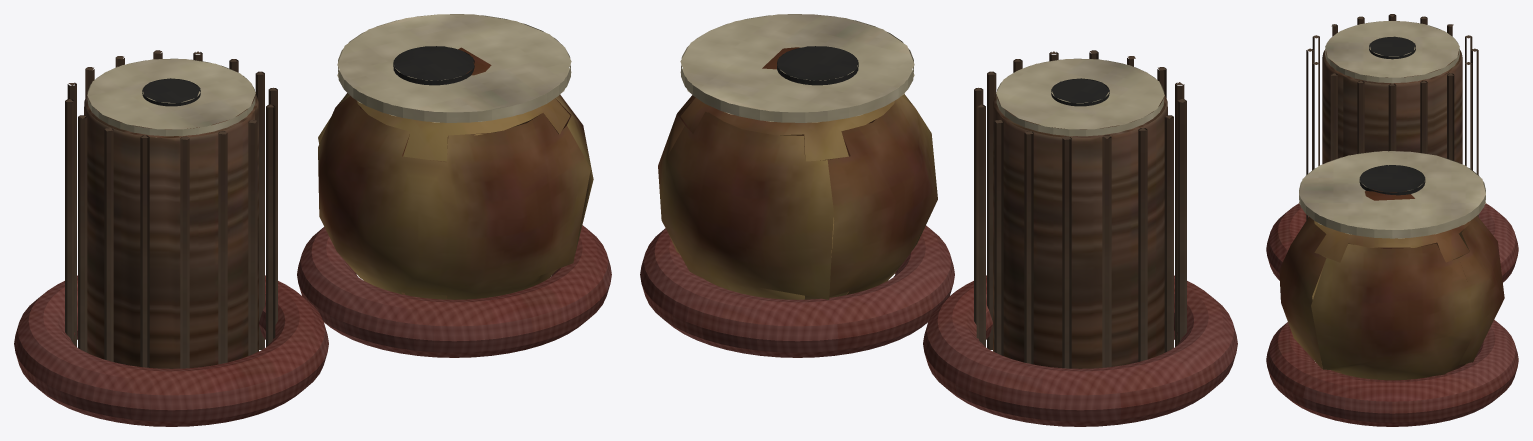
The model's file is MU02_TablaSet.glb.
The picture shows the model from 3 angles, left to right: view 1: azimuth 30°, elevation 25°; view 2: azimuth 150°, elevation 25°; view 3: azimuth 270°, elevation 25°; orthographic projection. The views are drawn at different scales.
Parts seen in each view (by area): view 1: MU02_TablaSet; view 2: MU02_TablaSet; view 3: MU02_TablaSet.
Part boxes in pixels (x1,y1,x2,y2): MU02_TablaSet: [14, 14, 611, 426]; MU02_TablaSet: [640, 14, 1237, 426]; MU02_TablaSet: [1266, 14, 1518, 426].
Size of the model in its own units: 0.5 by 0.2408 by 0.2455.
6 materials, 6 textured.
